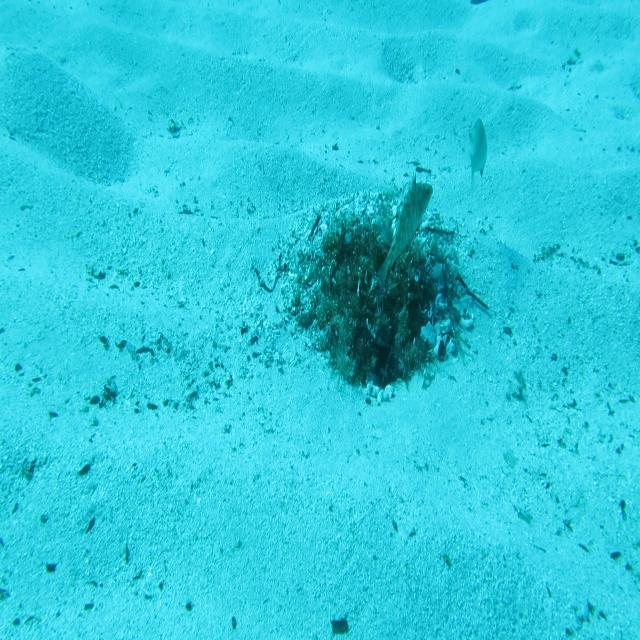MAF: (372, 170, 434, 292)
core_nest: (347, 238, 382, 268)
female: (462, 112, 492, 195)
nest: (270, 175, 485, 421)
vegetation: (332, 615, 352, 635)
